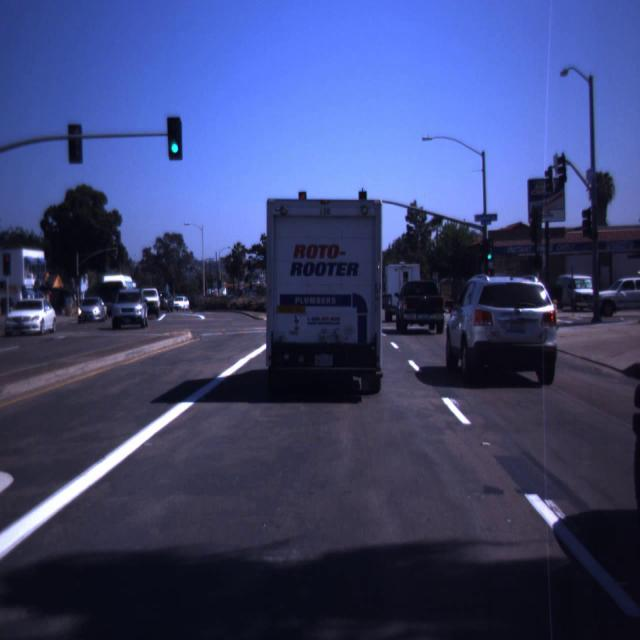arka_lamba: (68, 124, 82, 164)
yesil: (167, 117, 183, 161), (484, 240, 494, 262)
